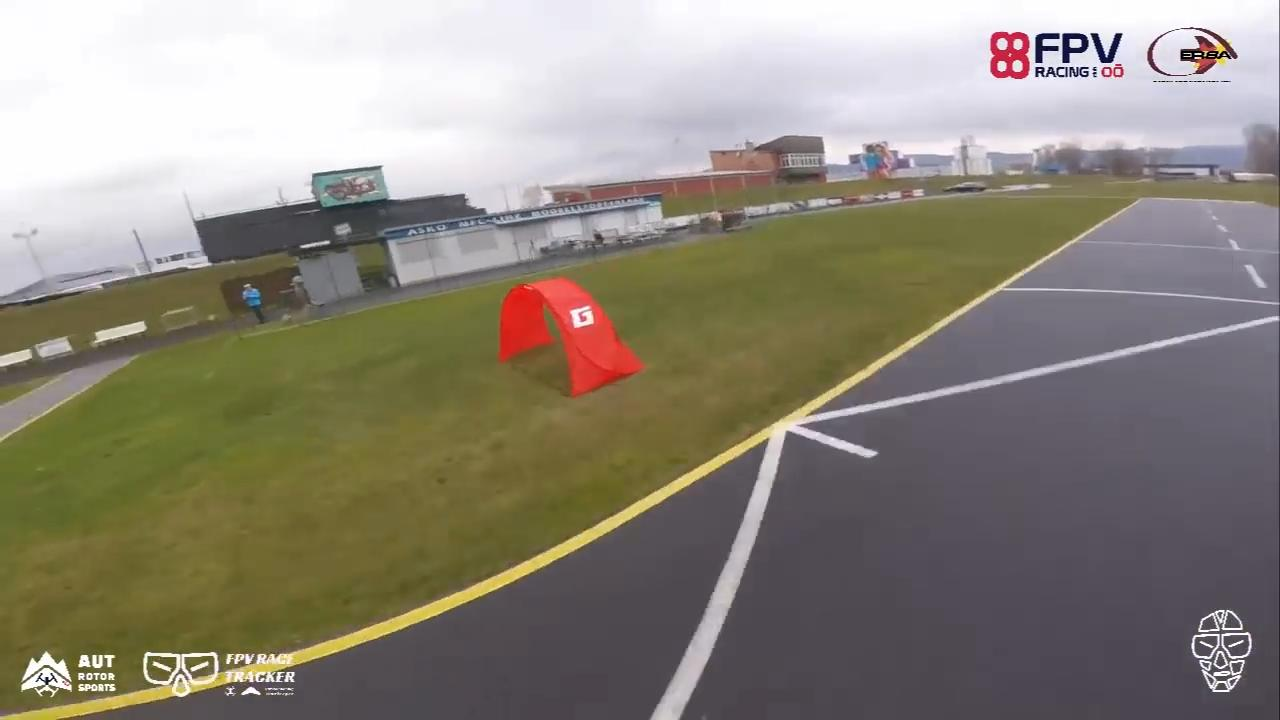gate: (495, 277, 645, 397)
